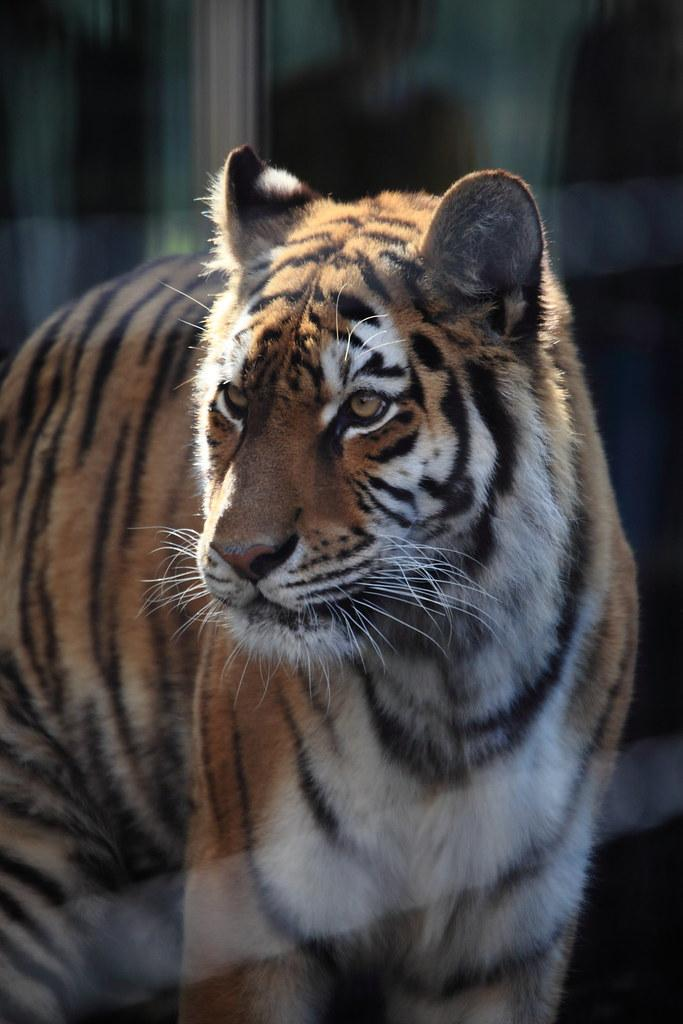tiger: (2, 143, 642, 1022)
